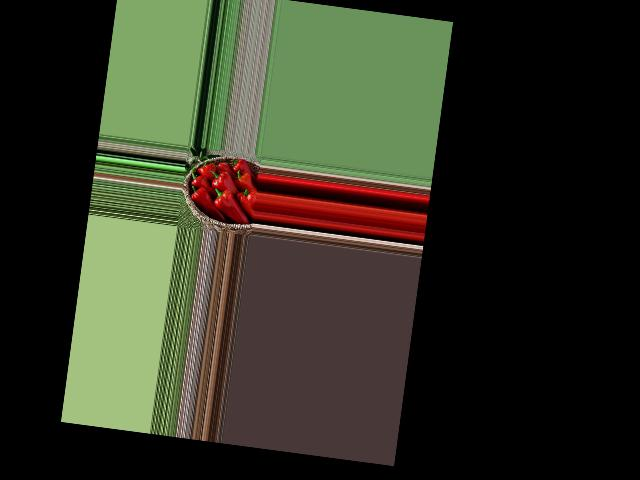bell_pepper: (187, 171, 210, 190)
